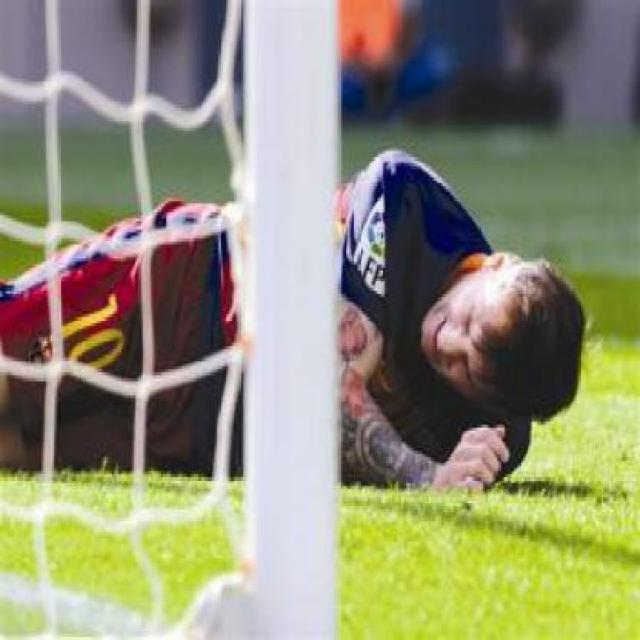fall: (0, 64, 592, 561)
